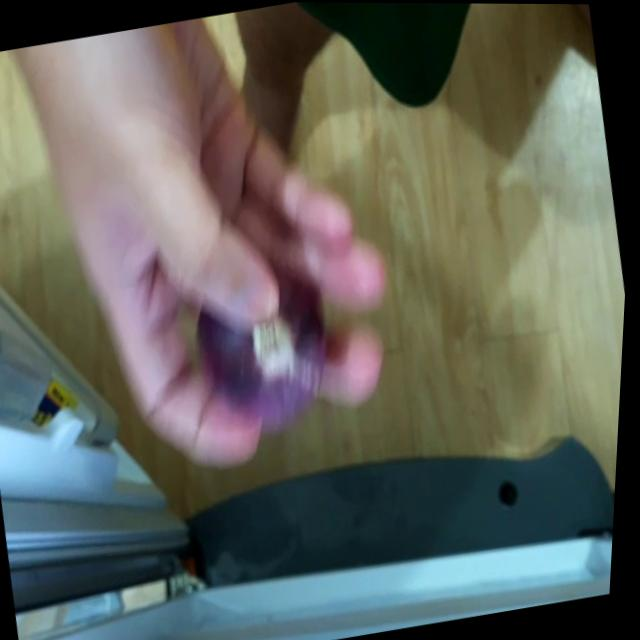onion: (184, 245, 360, 441)
